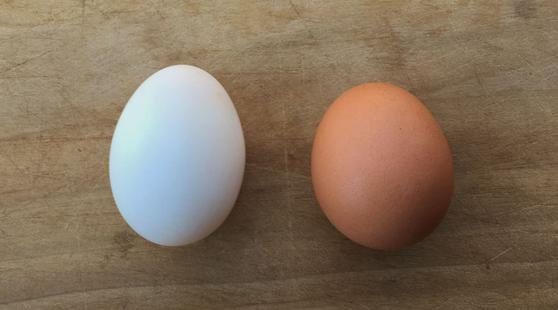egg: (104, 55, 244, 250), (305, 73, 458, 251)
